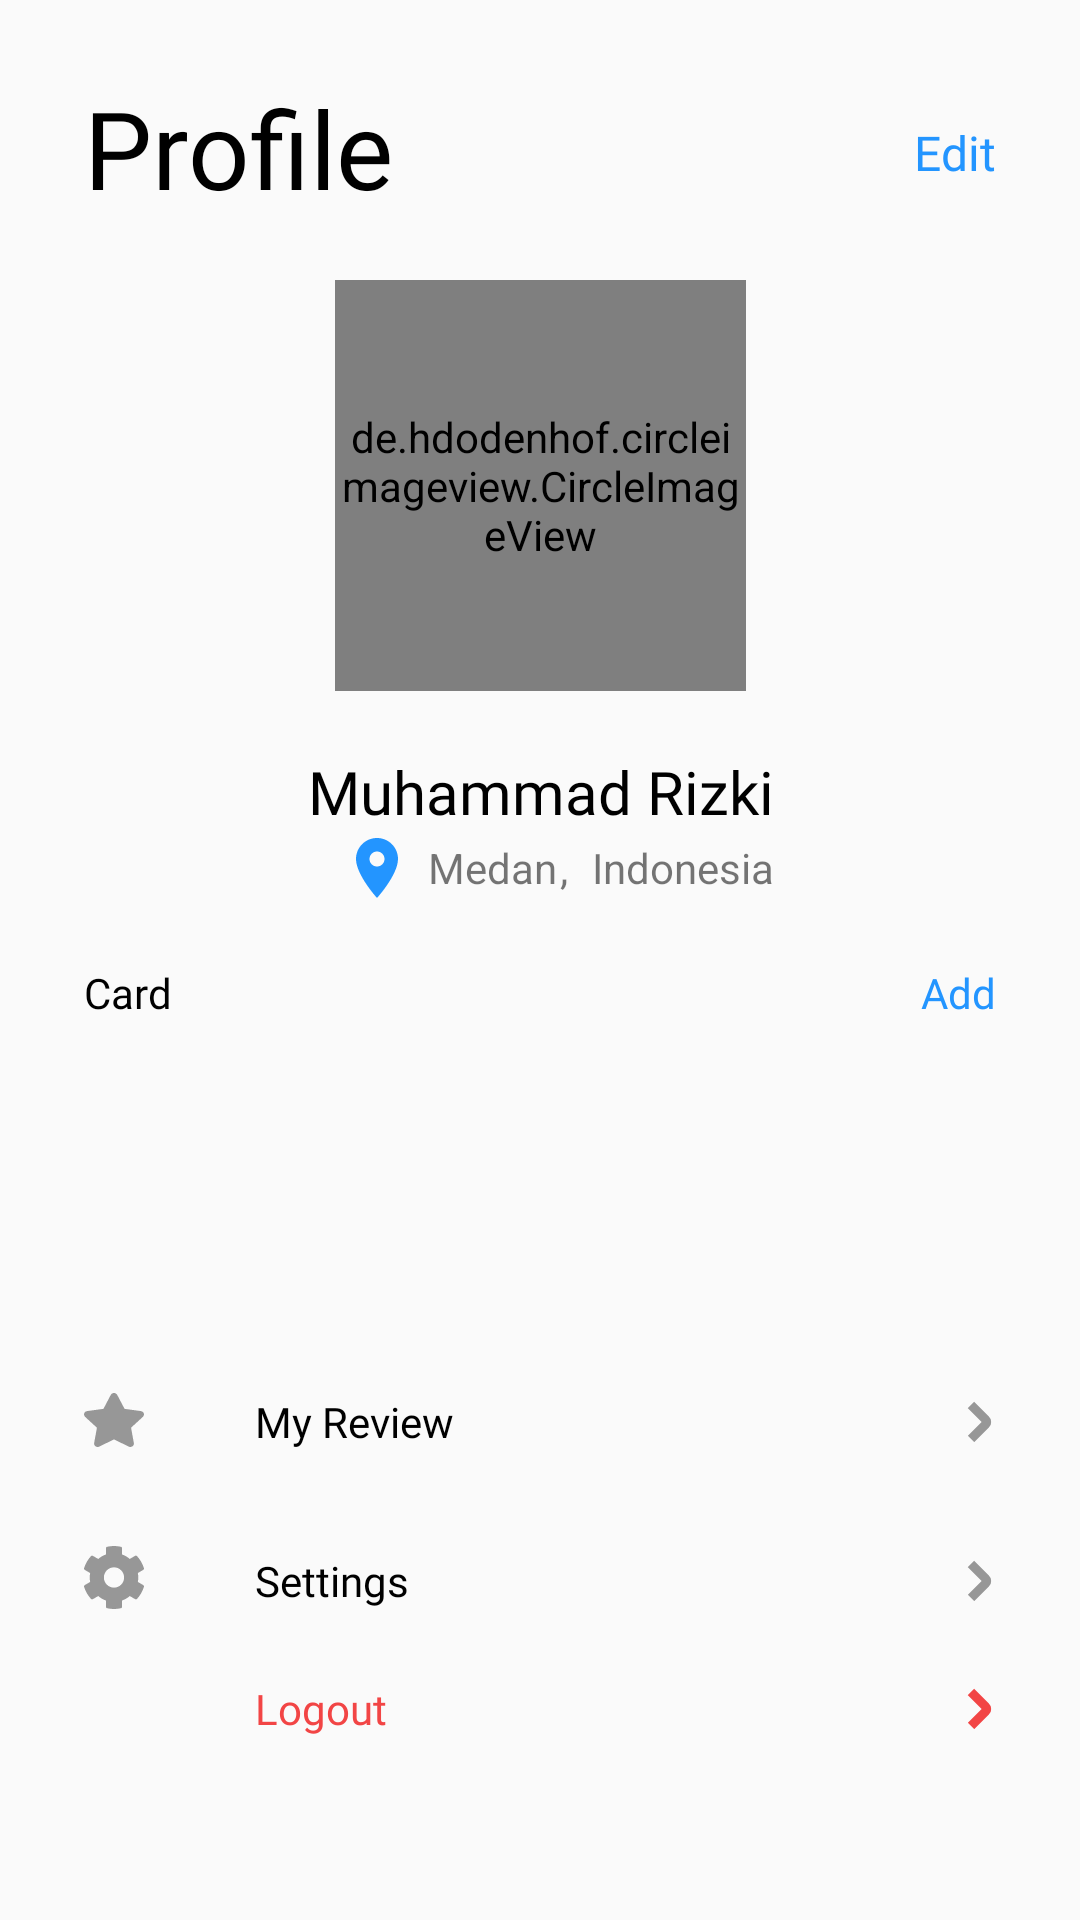

Where to tap for icons on this 1080*1920 app screen, as (x=x, y=y):
btnbacktoright: (x=979, y=1422), (x=979, y=1581)
btnbacktorightred: (x=979, y=1709)
location on: (x=377, y=868)
